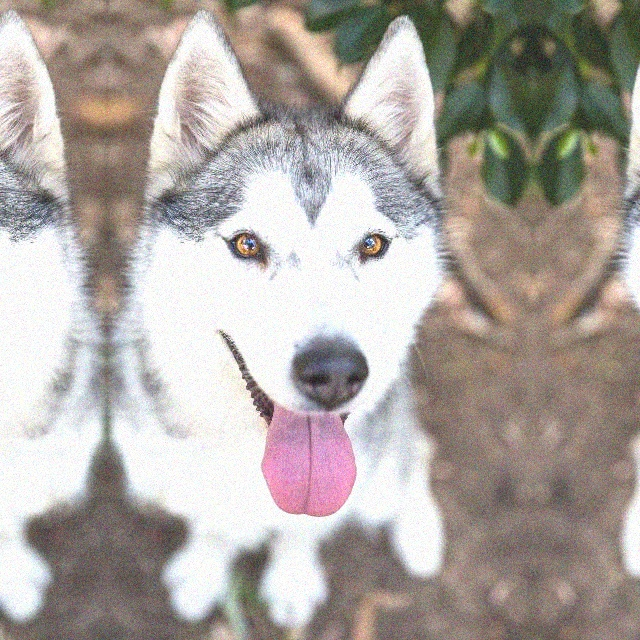dog: (107, 7, 469, 638), (0, 6, 108, 637), (599, 6, 640, 637)
